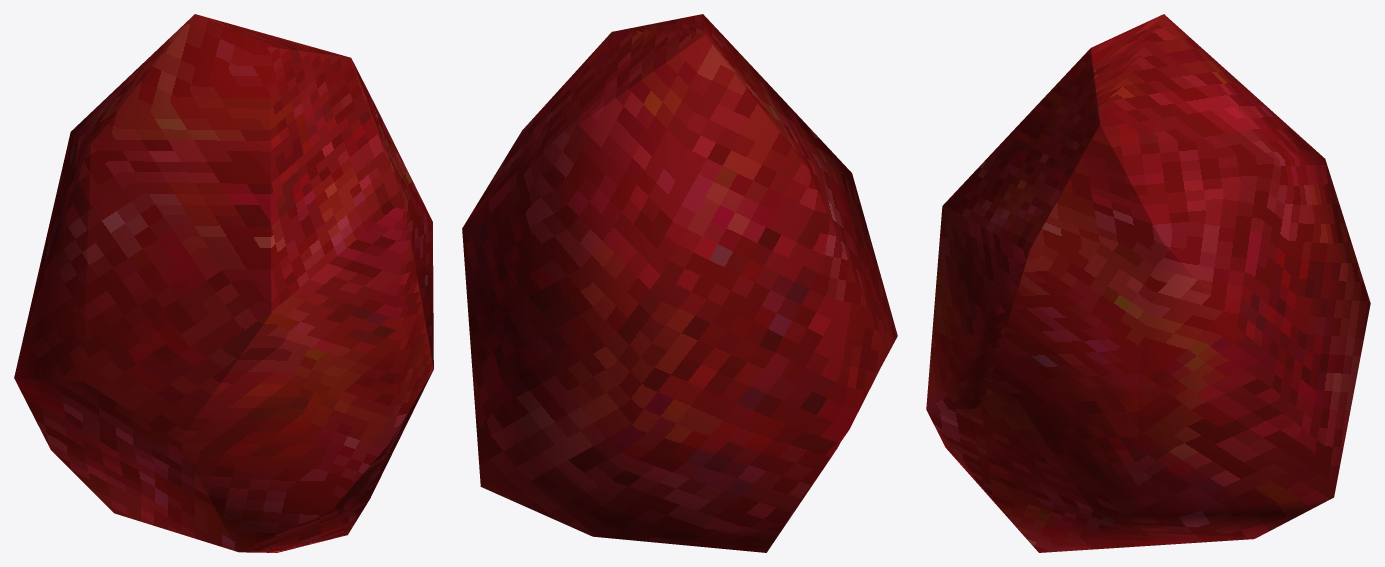
The model's file is orb000_0_low.meshout.fbx.
3 renders of one model, left to right at view 1: azimuth 30°, elevation 25°; view 2: azimuth 150°, elevation 25°; view 3: azimuth 270°, elevation 25°, orthographic.
Visible parts, largest first — view 1: LOD_1_Group_0_Sub_1__m000; view 2: LOD_1_Group_0_Sub_1__m000; view 3: LOD_1_Group_0_Sub_1__m000.
Boxes of the visible parts, x1,y1,x2,y2 form: LOD_1_Group_0_Sub_1__m000: (14, 14, 433, 552); LOD_1_Group_0_Sub_1__m000: (462, 14, 897, 552); LOD_1_Group_0_Sub_1__m000: (926, 14, 1370, 552).
Bounding box in the file's own units: 8.92 × 11.33 × 8.9.
